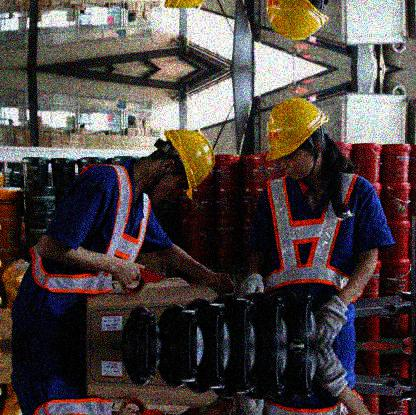helmet: (133, 128, 218, 207), (264, 98, 333, 184)
